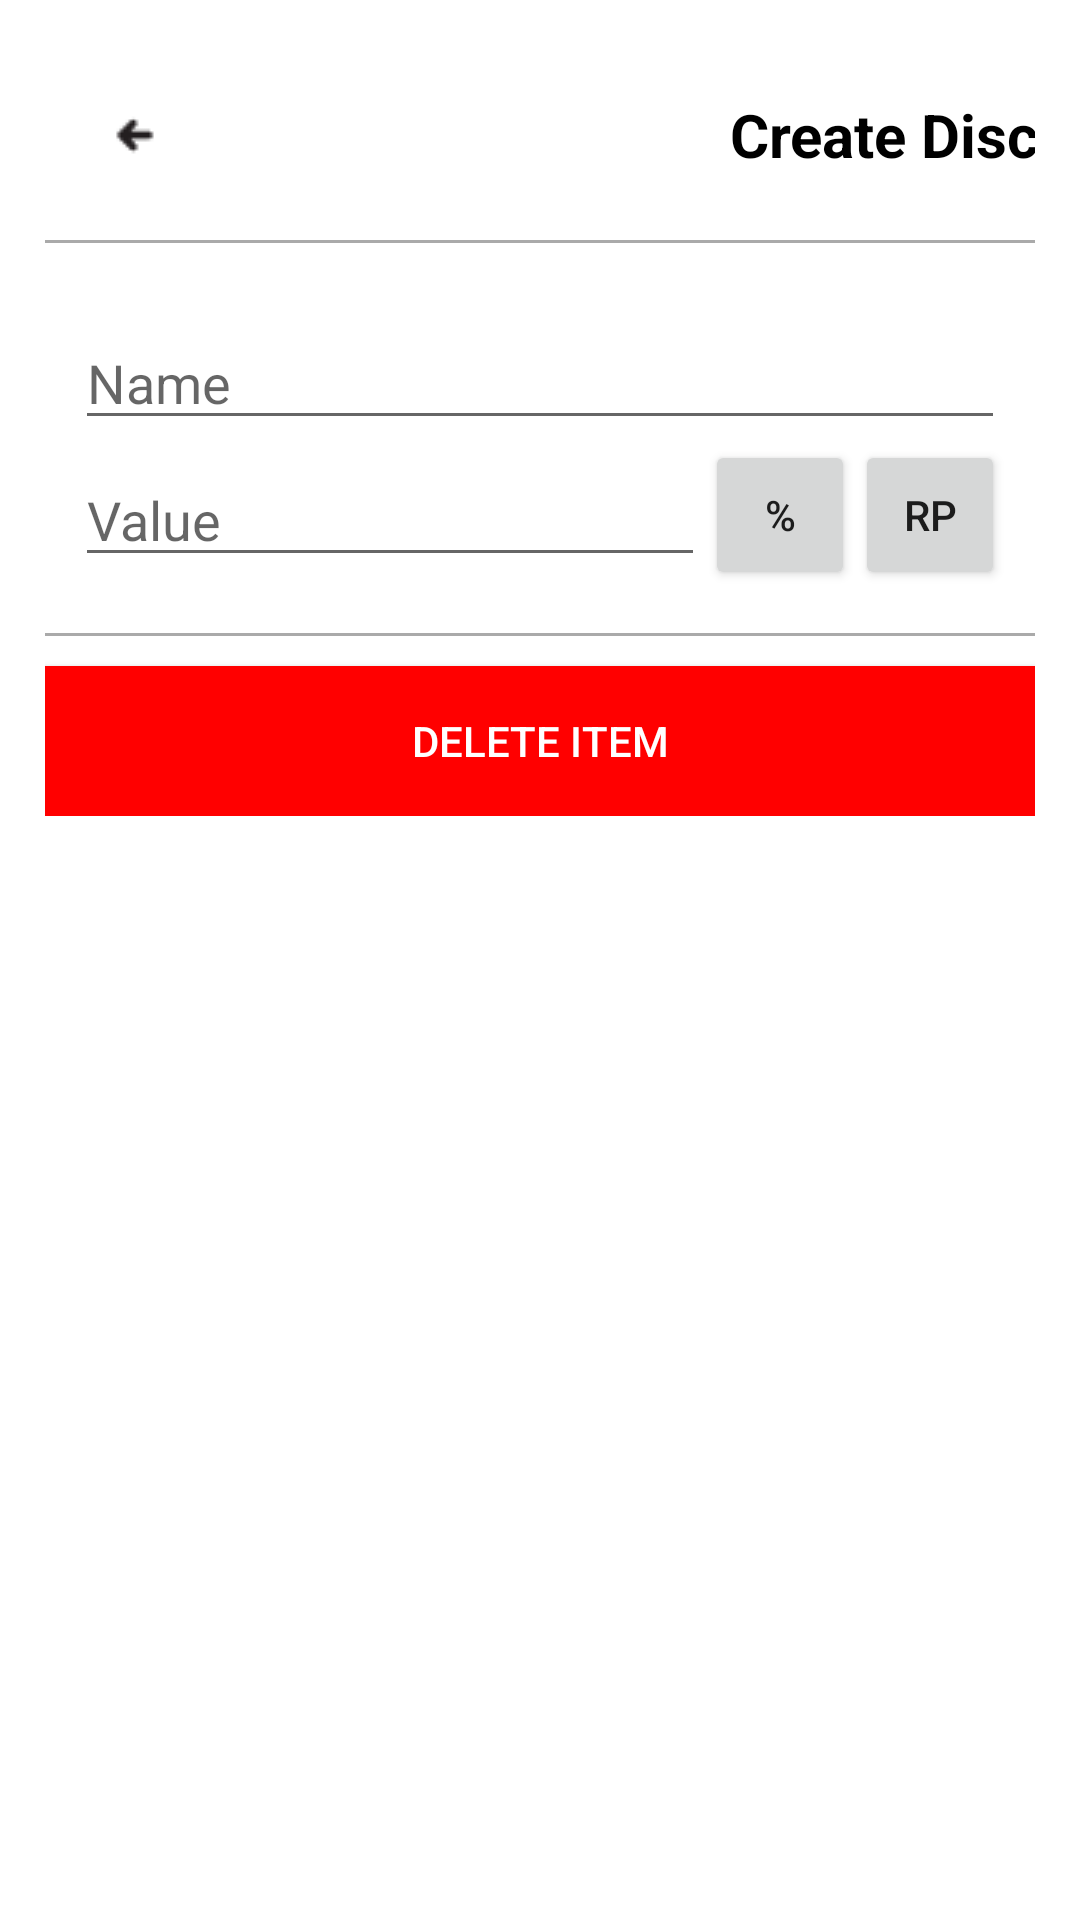

Icon click points for this 1080 × 1920 phone screenshot, format point (x, y):
arrowleft: point (135, 136)
